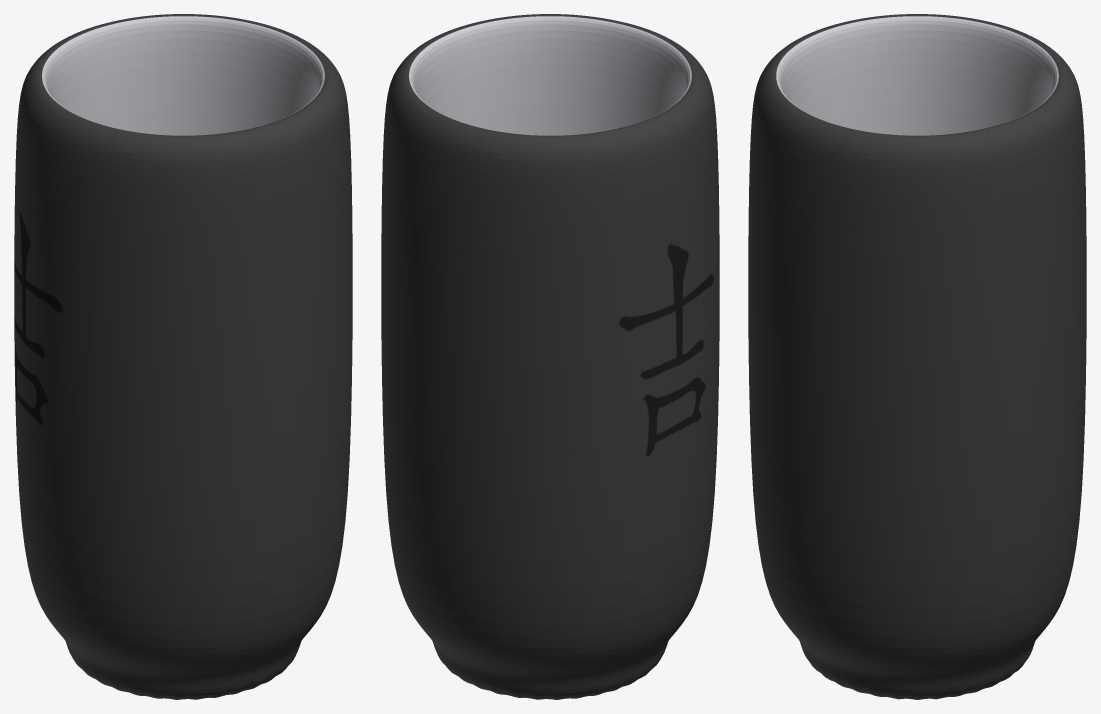
File: Mug.fbx
3 renders of one model, left to right at view 1: azimuth 30°, elevation 25°; view 2: azimuth 150°, elevation 25°; view 3: azimuth 270°, elevation 25°, orthographic.
Visible parts, largest first — view 1: Cylinder; view 2: Cylinder; view 3: Cylinder.
Boxes of the visible parts, box(x1,y1,x2,y2) form: Cylinder: box(14, 14, 352, 699); Cylinder: box(381, 14, 719, 699); Cylinder: box(748, 14, 1086, 699).
Size of the model in its own units: 397 by 767 by 397.
